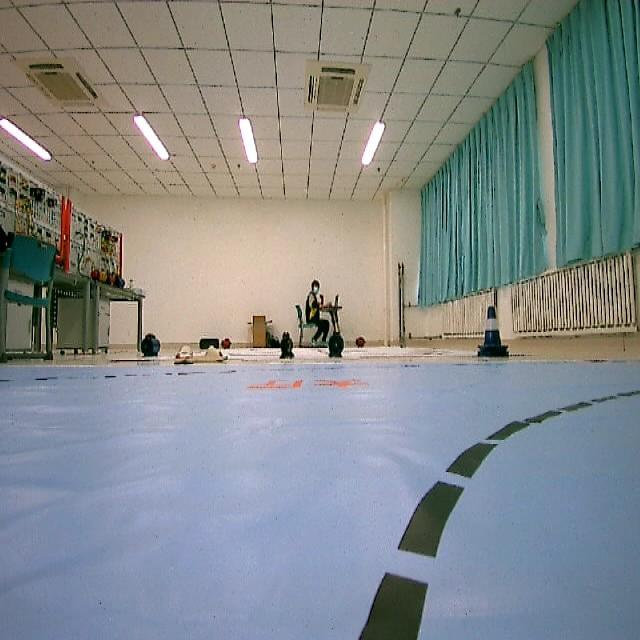obstacle: (466, 304, 519, 362)
